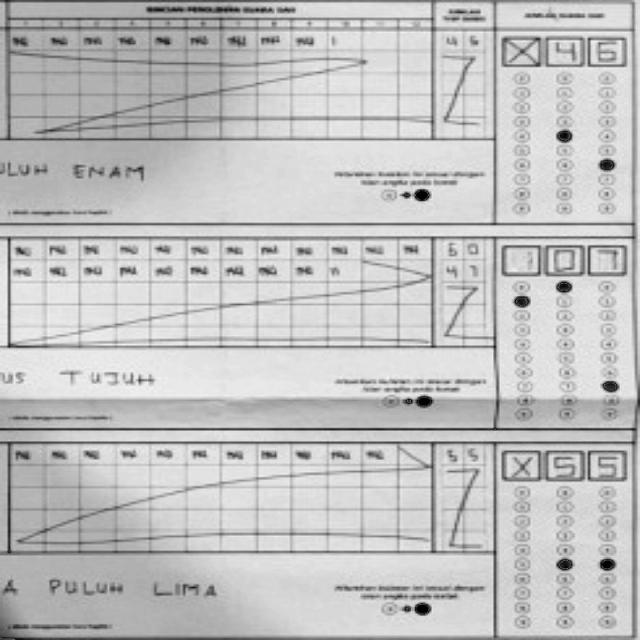Suara: (495, 30, 632, 68), (496, 240, 633, 278), (495, 446, 632, 484)
